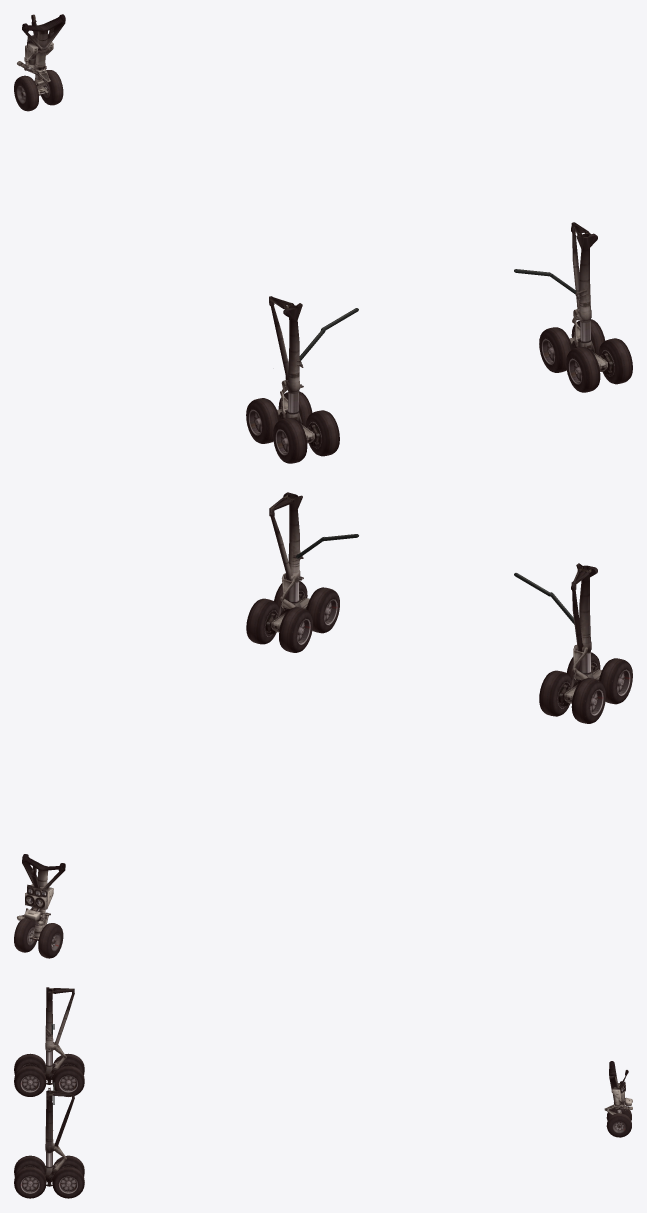
3 views of the same model, one above another, from view 1: azimuth 30°, elevation 25°; view 2: azimuth 150°, elevation 25°; view 3: azimuth 270°, elevation 25° (orthographic). The views are drawn at different scales.
Visible parts, largest first — view 1: RGear (×2), LeftWheelBack, RightWheelBack, NGear, LeftWheelFront, RightWheelFront, NoseWheel; view 2: RGear (×2), LeftWheelFront, RightWheelFront, NGear, LeftWheelBack, RightWheelBack, NoseWheel; view 3: RGear (×2), LeftWheelBack, RightWheelBack, RightWheelFront, LeftWheelFront, NGear, NoseWheel.
Boxes of the visible parts, box(x1,y1,x2,y2) form: RGear (×2): box(269, 222, 597, 393); LeftWheelBack: box(273, 410, 339, 463); RightWheelBack: box(566, 338, 632, 392); NGear: box(17, 14, 65, 85); LeftWheelFront: box(246, 391, 312, 443); RightWheelFront: box(539, 319, 605, 372); NoseWheel: box(14, 70, 63, 111); RGear (×2): box(269, 492, 597, 653); LeftWheelFront: box(539, 670, 605, 723); RightWheelFront: box(246, 598, 312, 652); NGear: box(17, 854, 65, 925); LeftWheelBack: box(566, 652, 632, 704); RightWheelBack: box(274, 581, 339, 633); NoseWheel: box(14, 919, 63, 958); RGear (×2): box(45, 987, 74, 1152); LeftWheelBack: box(14, 1053, 46, 1096); RightWheelBack: box(14, 1155, 46, 1198); RightWheelFront: box(52, 1155, 84, 1198); LeftWheelFront: box(52, 1053, 84, 1096); NGear: box(604, 1061, 632, 1114); NoseWheel: box(606, 1108, 631, 1137).
Bounding box in the file's own units: 11.27 × 4.5 × 24.86.
Materials: 2 (2 with a texture image).
